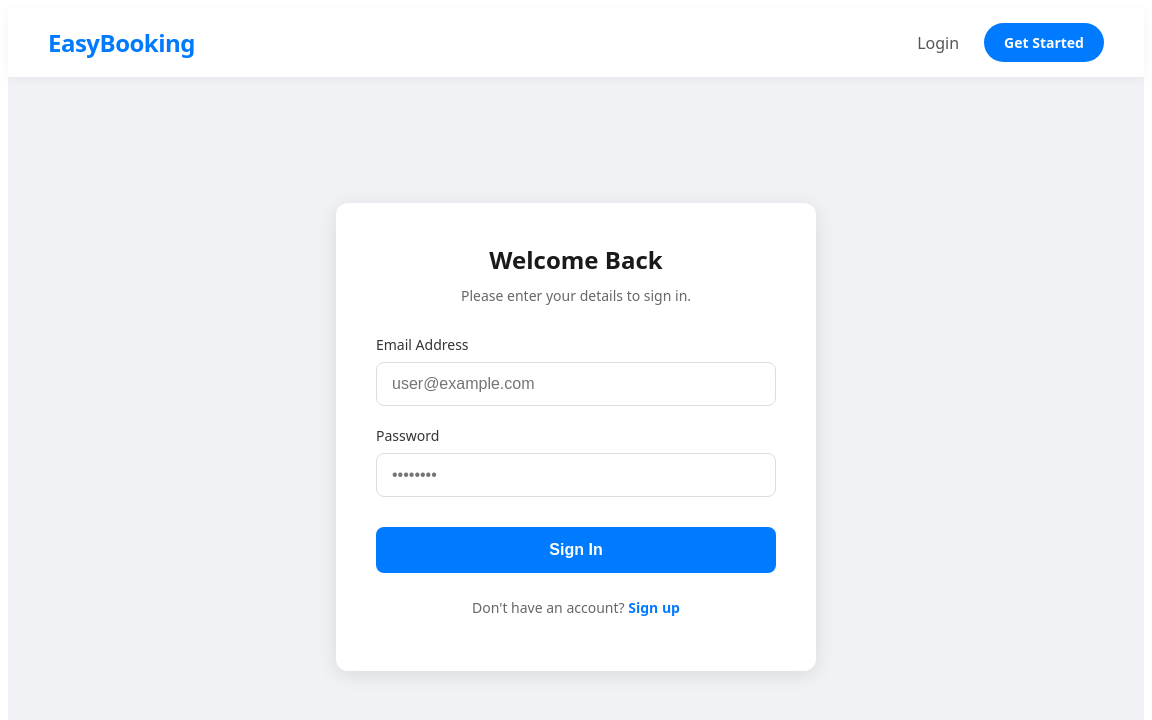
Scenario: EasyBooking E2E Flow › Should handle Login Errors gracefully
Type "wrong@test.com" into the field with placeholder "user@example.com" at coordinates (576, 384), box [376,362,776,406]
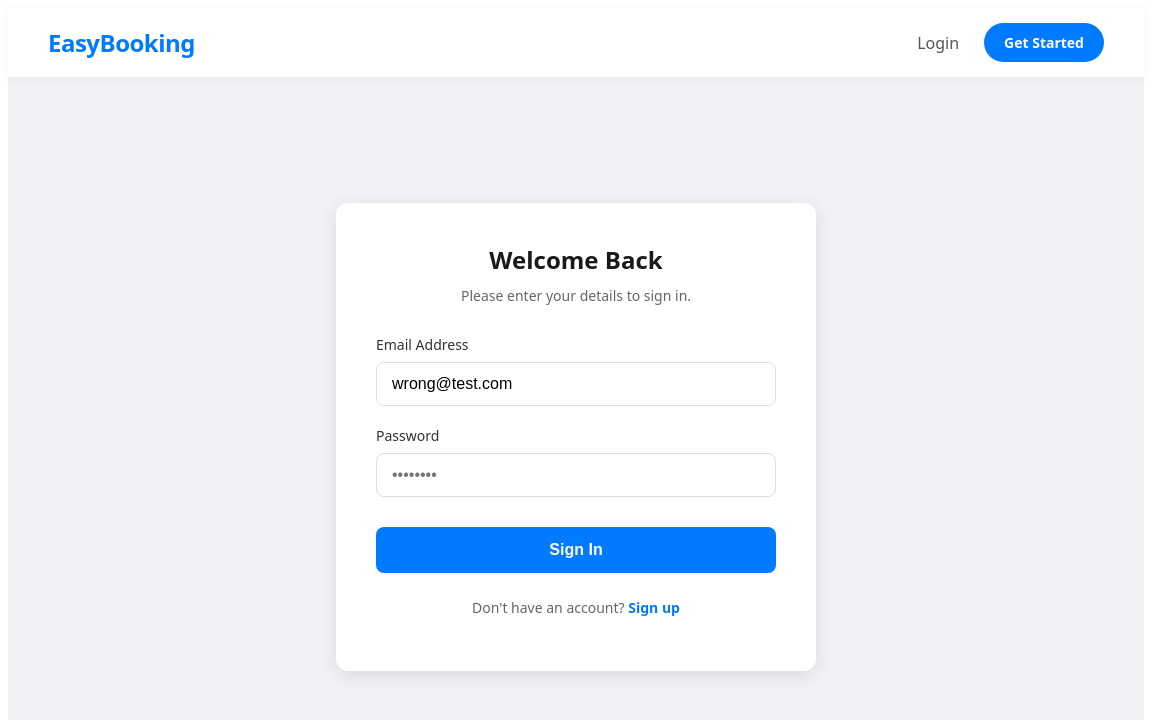
Type "wrongpass" into the password field with placeholder "••••••••" at coordinates (576, 475), box [376,453,776,497]
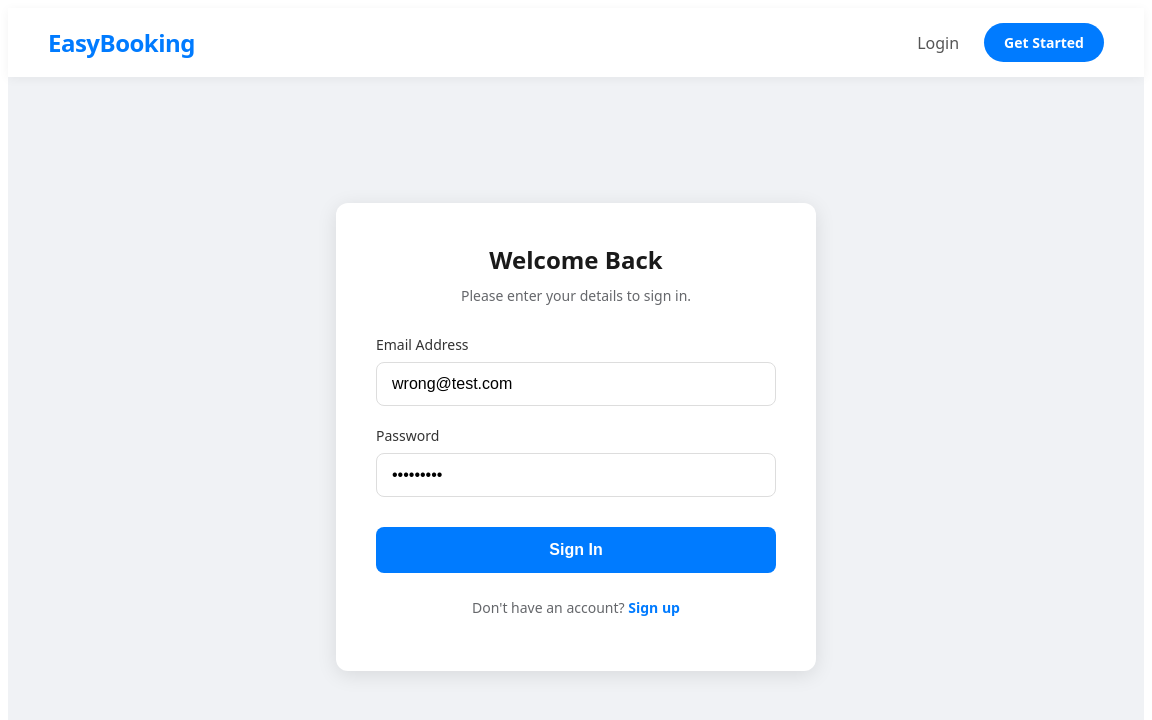
Click the submit button at coordinates (576, 550), box [376,527,776,573]
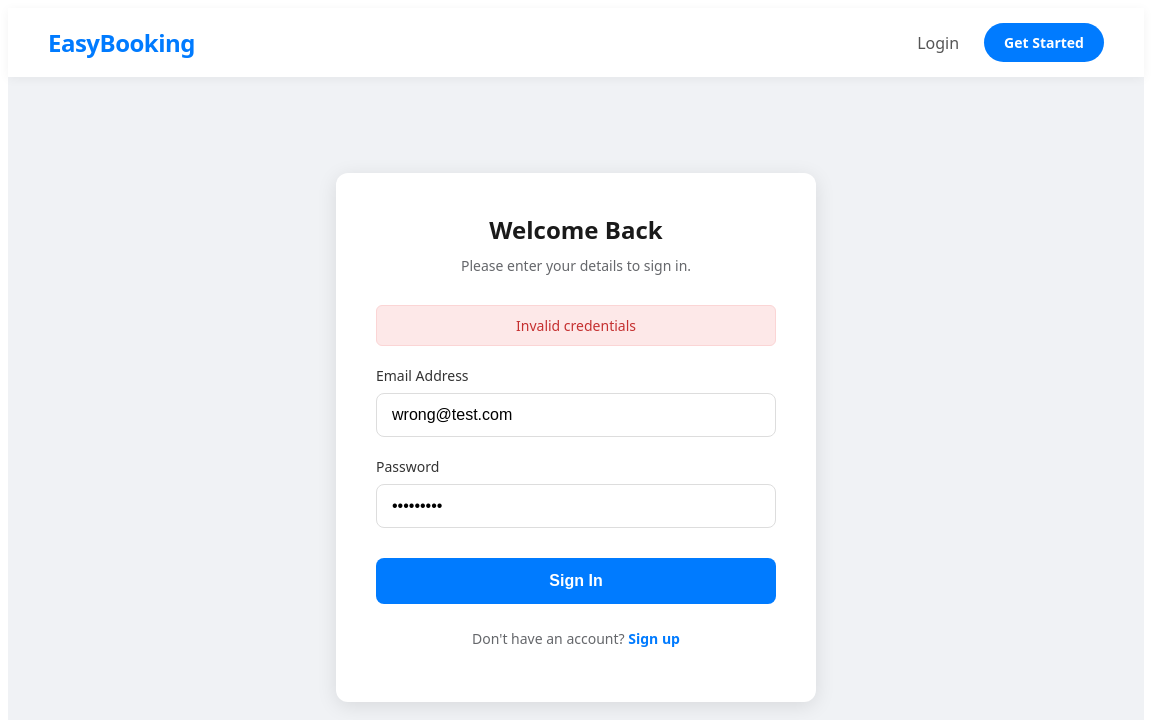
Result: the text "Invalid credentials" is shown at [376,304,776,346]
